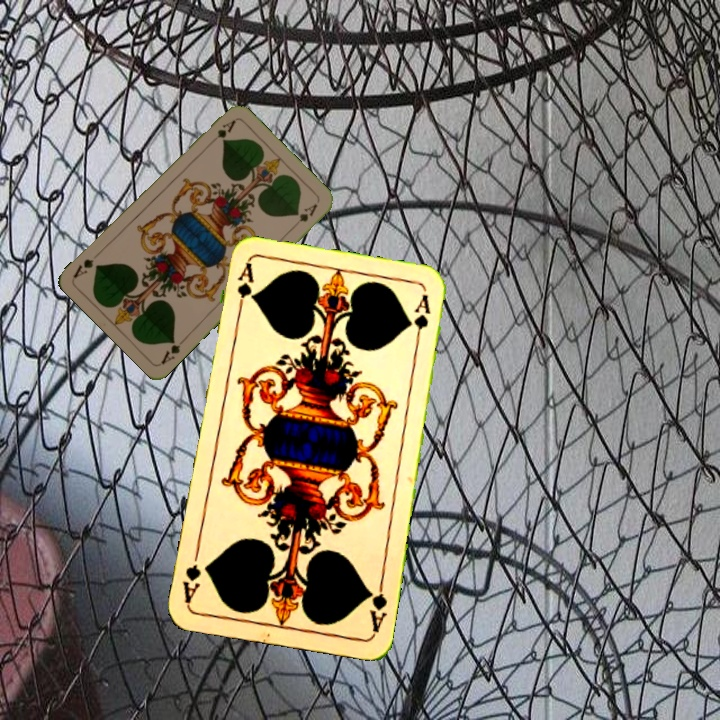GA: (364, 576, 390, 635), (233, 260, 256, 319), (157, 334, 189, 367), (205, 116, 238, 148)
